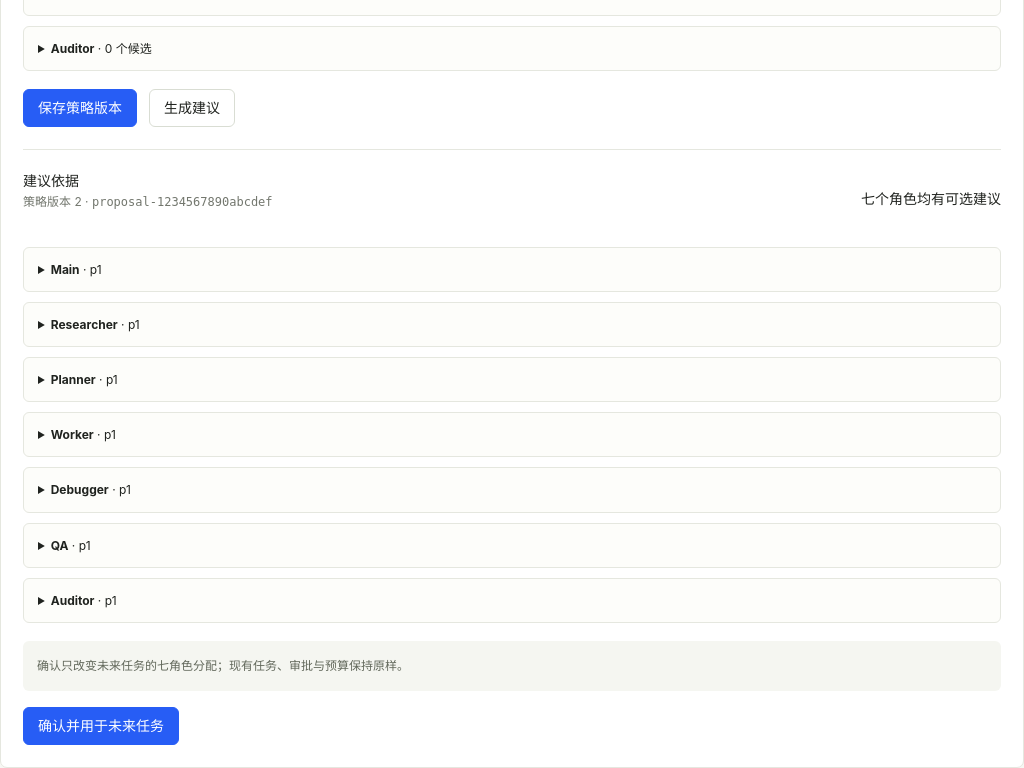
keeps a stale conflict explicit and offers regeneration without automatically retrying
(page scrolled)
Click the button "确认并用于未来任务" at (101, 726), box [23,707,179,745]
(page scrolled)
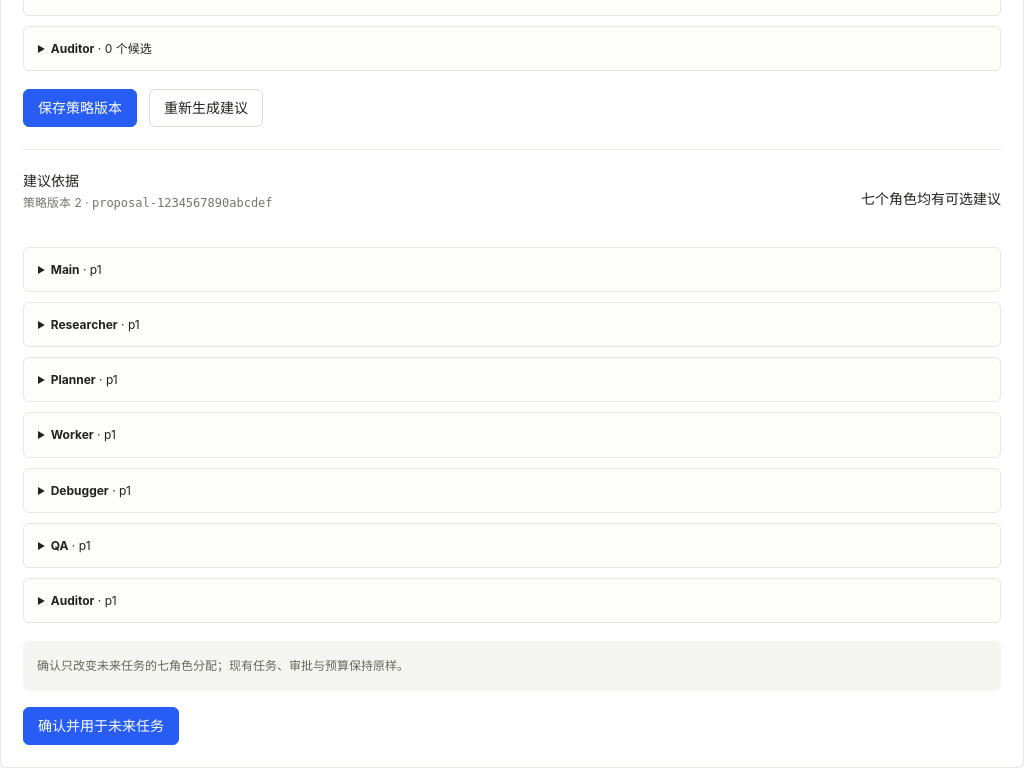
Expected: the button "重新生成建议" is shown, [149,89,263,127]
